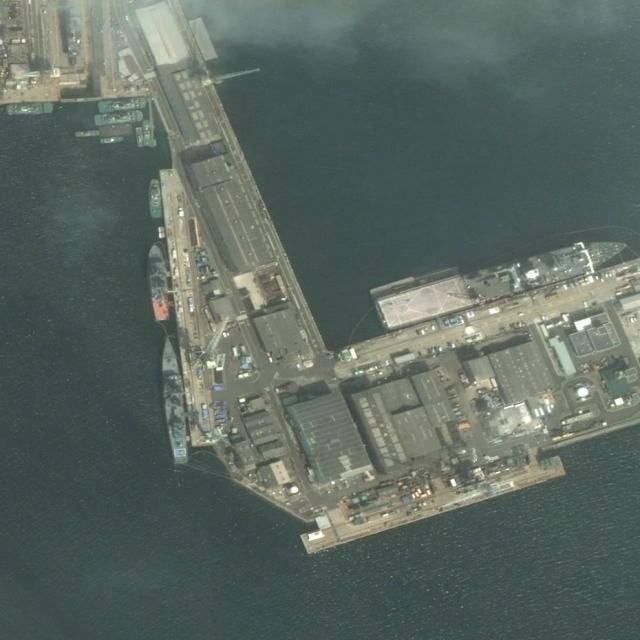Landing: (376, 228, 632, 330)
Other Ship: (94, 108, 145, 127), (98, 98, 147, 113), (7, 102, 54, 117), (149, 178, 162, 218)
Other Warship: (158, 332, 192, 468), (146, 243, 172, 323)
